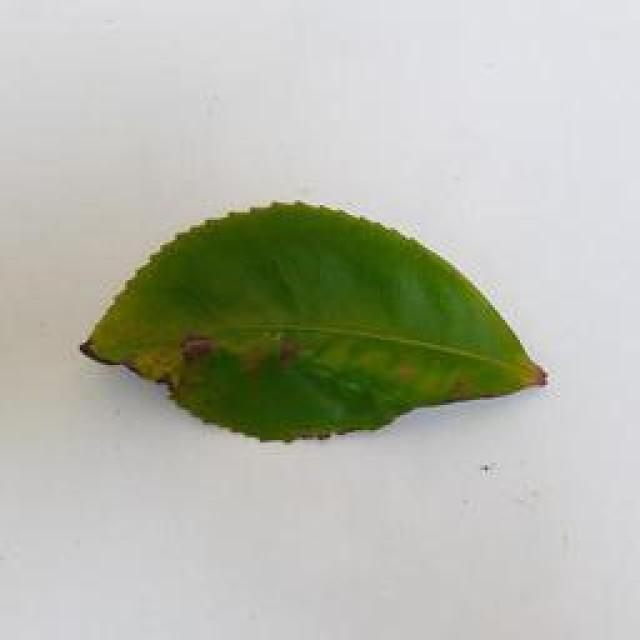Helopeltis: (51, 193, 549, 460)
